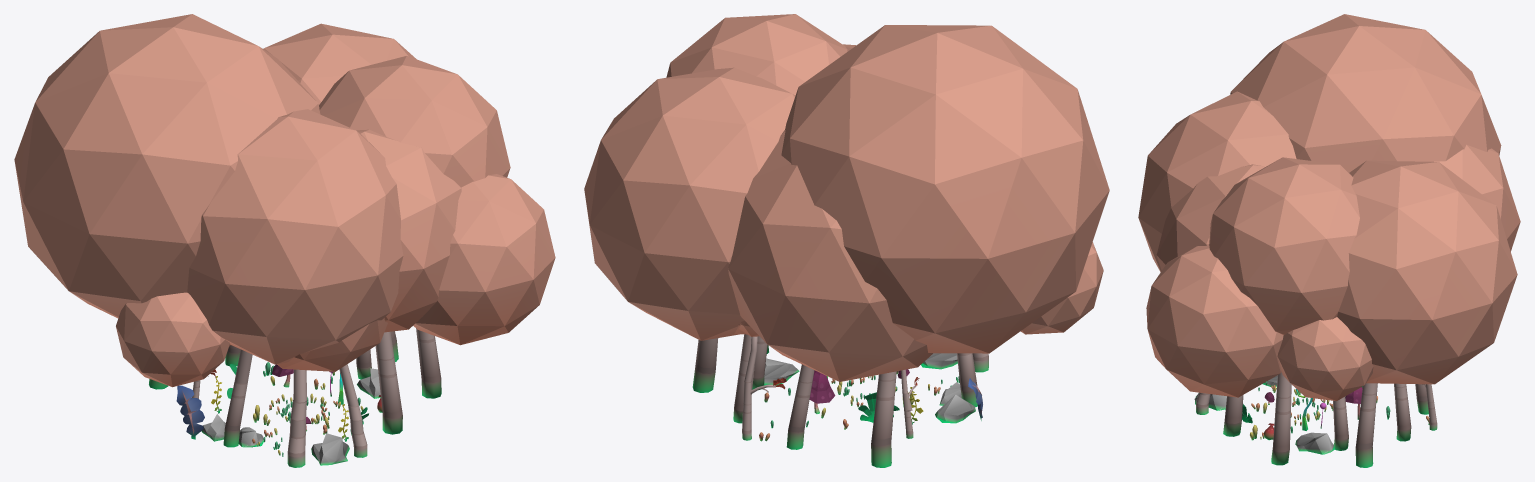
The model's file is forest-intro-update.fbx.
3 views of the same model, side by side, from view 1: azimuth 30°, elevation 25°; view 2: azimuth 150°, elevation 25°; view 3: azimuth 270°, elevation 25° (orthographic). The views are drawn at different scales.
Parts seen in each view (by area): view 1: mdl_env_1_forest_tree_g_v01.001; view 2: mdl_env_1_forest_tree_g_v01.001; view 3: mdl_env_1_forest_tree_g_v01.001.
Boxes of the visible parts, x1,y1,x2,y2 form: mdl_env_1_forest_tree_g_v01.001: (14, 14, 555, 467); mdl_env_1_forest_tree_g_v01.001: (584, 14, 1109, 467); mdl_env_1_forest_tree_g_v01.001: (1138, 14, 1520, 467).
Size of the model in its own units: 34.11 by 28.56 by 28.72.
